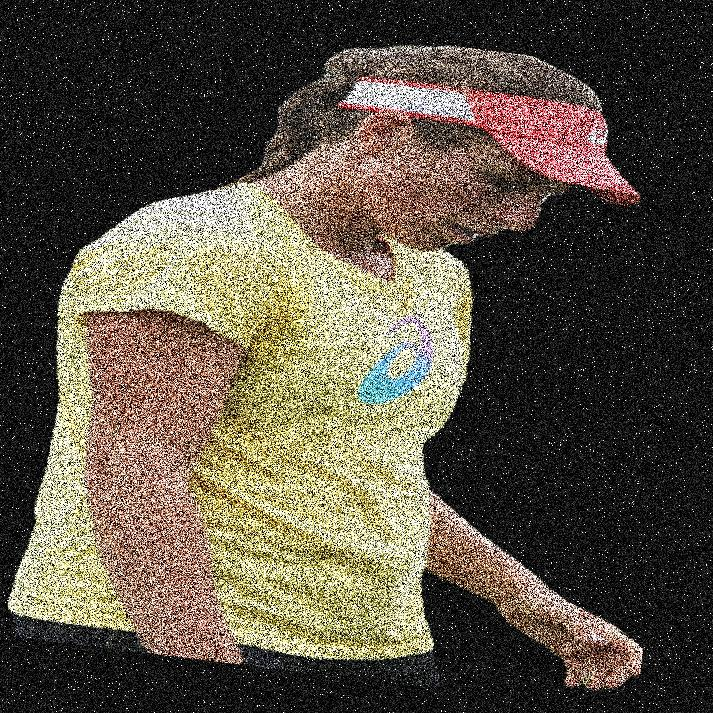Pessoa: (188, 0, 515, 712)
